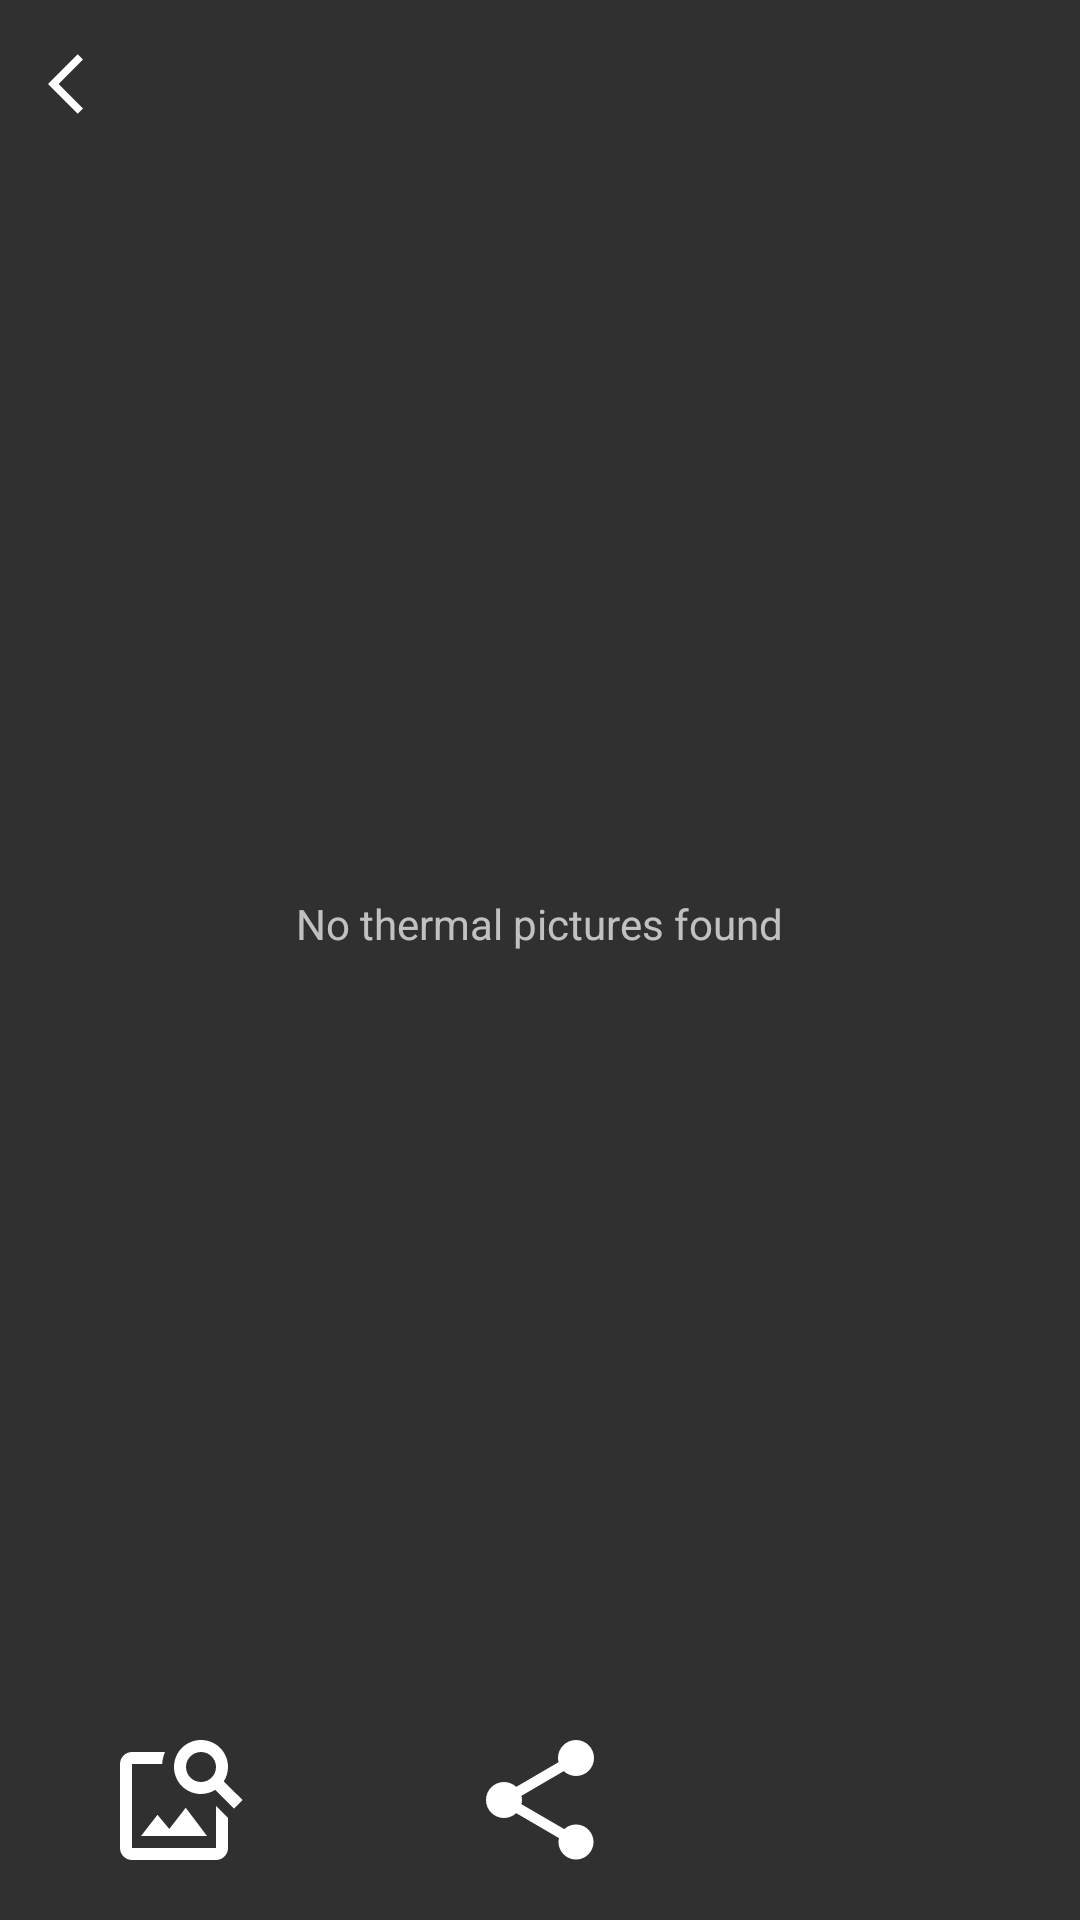

Icons on this 1080*1920 Android screen, each with the point to tap as (x=x, y=y):
arrow back: (x=65, y=84)
search: (x=181, y=1800)
share: (x=540, y=1800)
